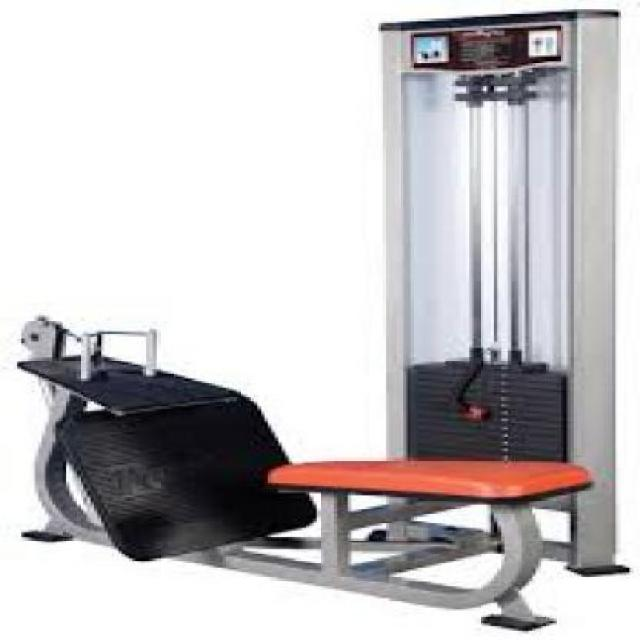Seated Cable Rows: (6, 4, 633, 640)
